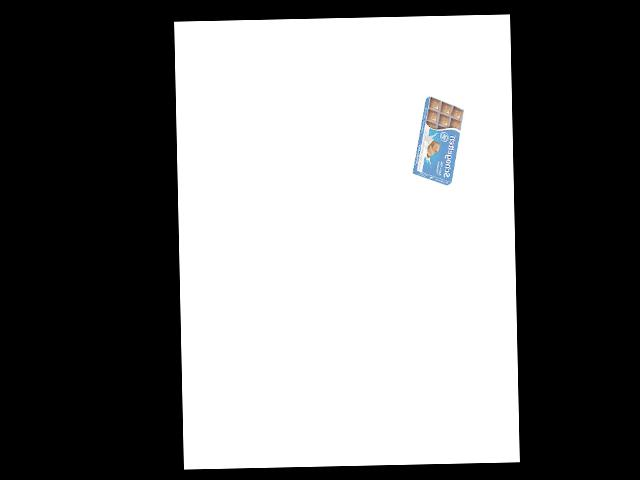chocolate: (418, 94, 465, 187)
